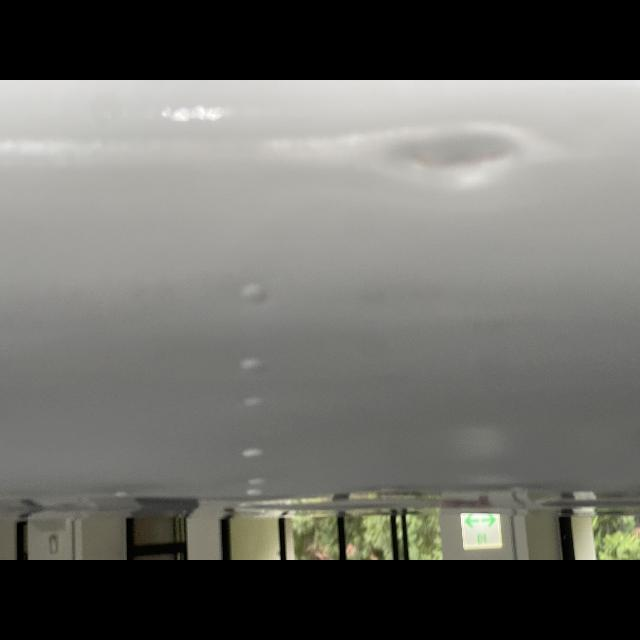dent: (356, 109, 560, 199)
